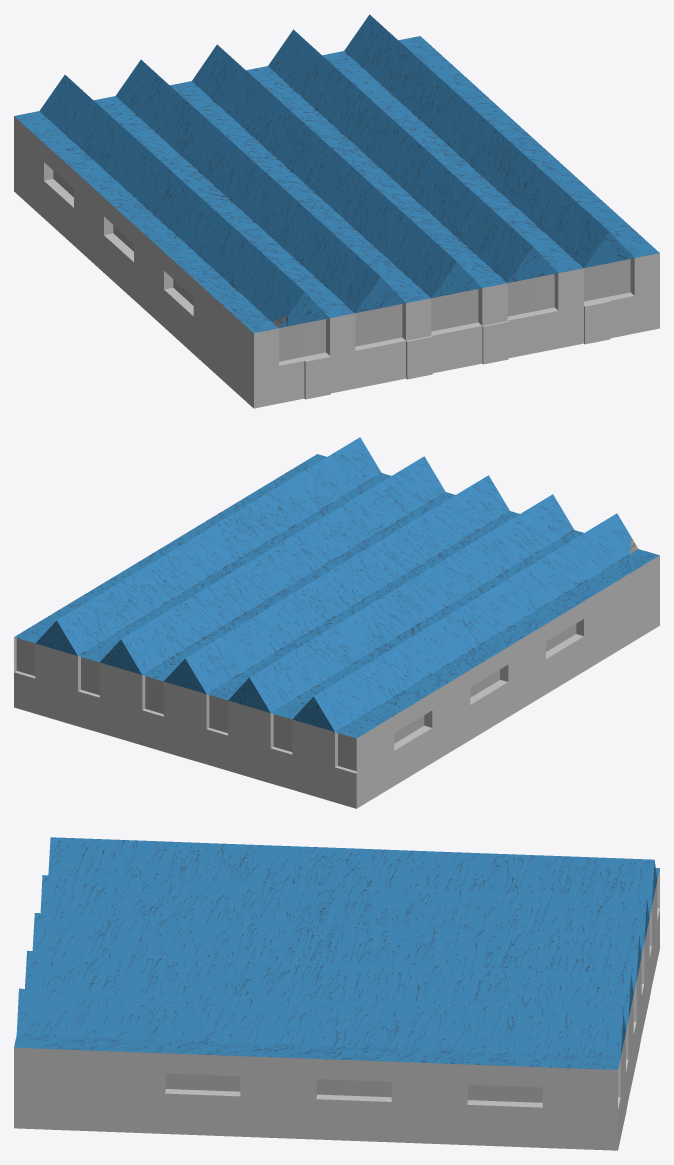
File: Bodega.fbx
3 renders of one model, top to bottom at view 1: azimuth 30°, elevation 25°; view 2: azimuth 150°, elevation 25°; view 3: azimuth 270°, elevation 25°, orthographic. The views are drawn at different scales.
Visible parts, largest first — view 1: Edificio7; view 2: Edificio7; view 3: Edificio7.
Part boxes in pixels (x1,y1,x2,y2): Edificio7: [14, 14, 659, 408]; Edificio7: [14, 437, 659, 808]; Edificio7: [14, 837, 659, 1150].
Size of the model in its own units: 9168 by 2184 by 11166.
